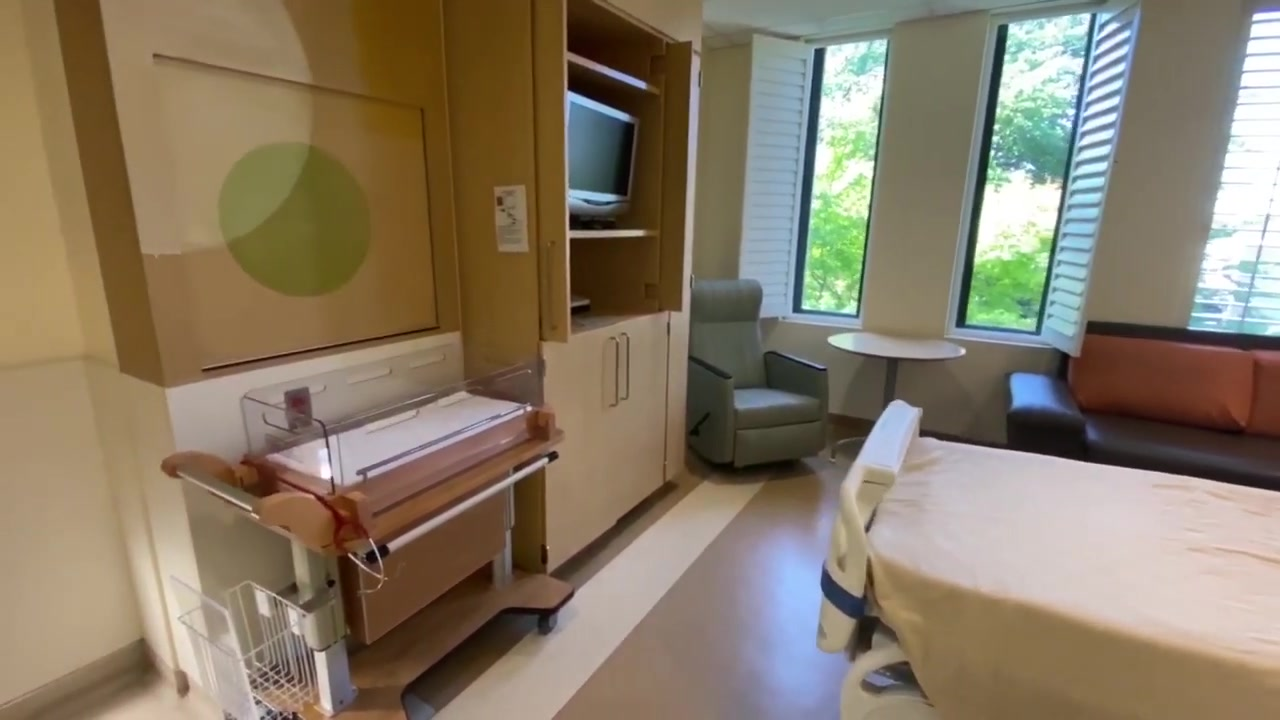TV: (567, 88, 642, 227)
bedrail: (840, 640, 941, 720)
foot_board: (819, 398, 924, 655)
handle: (544, 241, 560, 331), (610, 336, 624, 411), (622, 331, 633, 400)
hospital_bed: (814, 397, 1280, 720)
sofa: (1004, 322, 1280, 524), (691, 268, 830, 475)
table: (826, 331, 966, 466)
